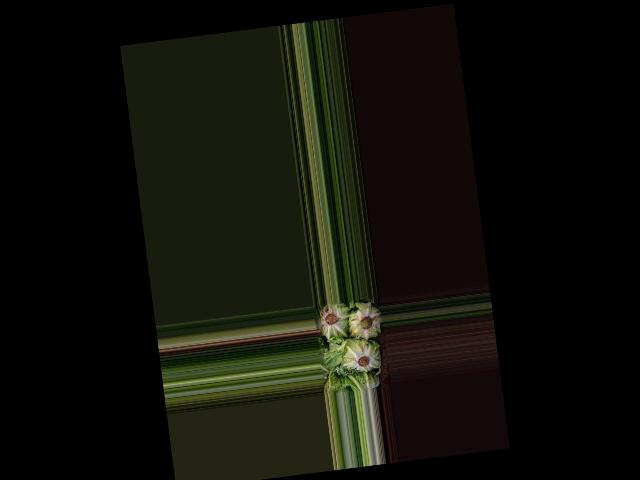lettuce: (317, 301, 352, 340)
